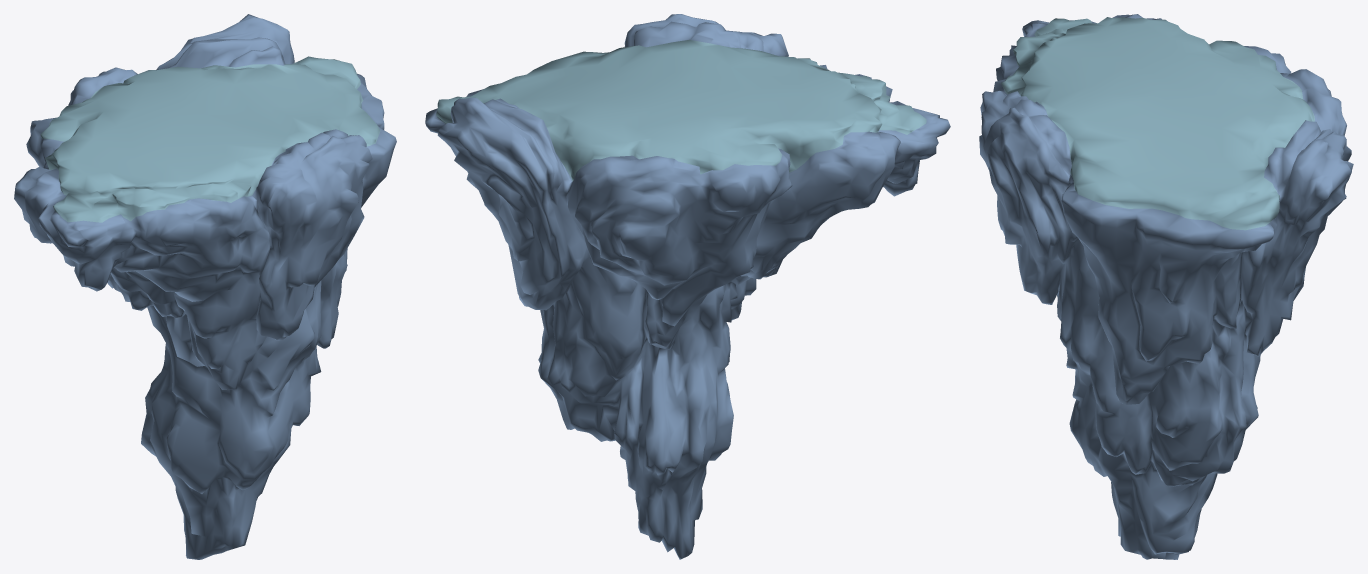
File: SM_Rock_Green_14.FBX
3 views of the same model, side by side, from view 1: azimuth 30°, elevation 25°; view 2: azimuth 150°, elevation 25°; view 3: azimuth 270°, elevation 25° (orthographic). The views are drawn at different scales.
Parts seen in each view (by area): view 1: Rock_Green_015_LOD0; view 2: Rock_Green_015_LOD0; view 3: Rock_Green_015_LOD0.
Boxes of the visible parts, x1,y1,x2,y2 form: Rock_Green_015_LOD0: [14, 14, 396, 559]; Rock_Green_015_LOD0: [425, 14, 950, 559]; Rock_Green_015_LOD0: [979, 14, 1353, 559].
Size of the model in its own units: 5578 by 4292 by 6136.
